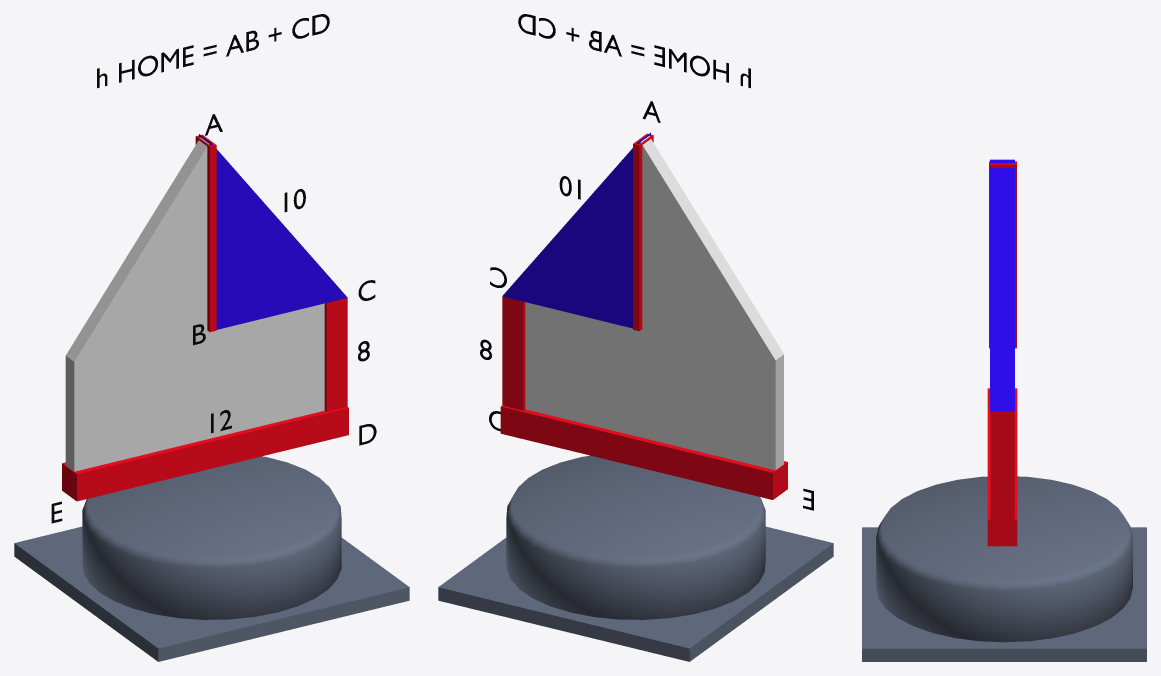
3 views of the same model, side by side, from view 1: azimuth 30°, elevation 25°; view 2: azimuth 150°, elevation 25°; view 3: azimuth 270°, elevation 25° (orthographic).
Visible parts, largest first — view 1: подставка, Cube, Cube.001, Cube.002, Cube.003, Cube.004, Text.008; view 2: подставка, Cube, Cube.001, Cube.002, Cube.003, Cube.004, Text.008; view 3: подставка, Cube.002, Cube.003, Cube.004.
Boxes of the visible parts, x1,y1,x2,y2 form: подставка: [14, 456, 409, 661]; Cube: [65, 303, 324, 471]; Cube.001: [66, 137, 209, 361]; Cube.002: [199, 134, 347, 329]; Cube.003: [62, 298, 348, 501]; Cube.004: [195, 134, 216, 331]; Text.008: [97, 14, 329, 88]; подставка: [438, 455, 833, 661]; Cube: [525, 302, 783, 470]; Cube.001: [640, 136, 783, 360]; Cube.002: [502, 132, 650, 328]; Cube.003: [500, 296, 787, 499]; Cube.004: [633, 133, 653, 331]; Text.008: [518, 14, 750, 88]; подставка: [862, 476, 1146, 661]; Cube.002: [990, 159, 1014, 411]; Cube.003: [987, 388, 1017, 546]; Cube.004: [989, 161, 1016, 348].
Size of the model in its own units: 11.88 by 18.73 by 9.09.
